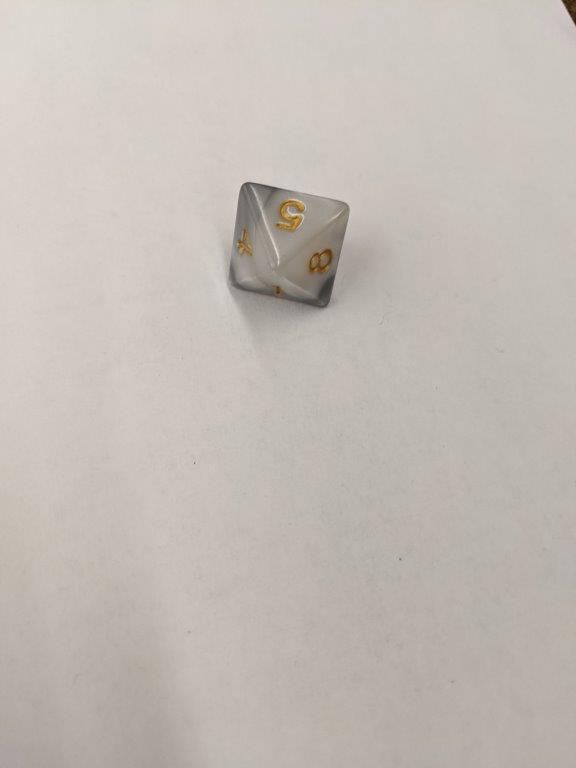d8-5: (223, 179, 353, 318)
